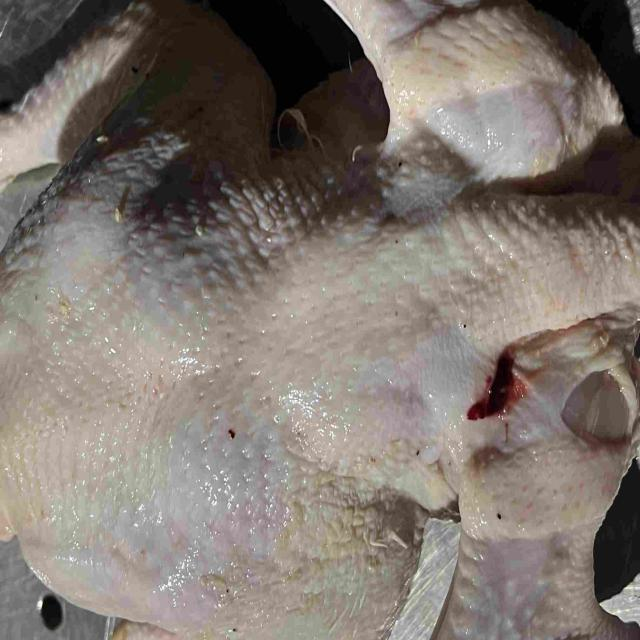back: (0, 177, 509, 586)
leg: (0, 0, 269, 330), (117, 520, 407, 640)
neck: (518, 153, 640, 326)
wing: (428, 326, 640, 640), (329, 0, 620, 184)
